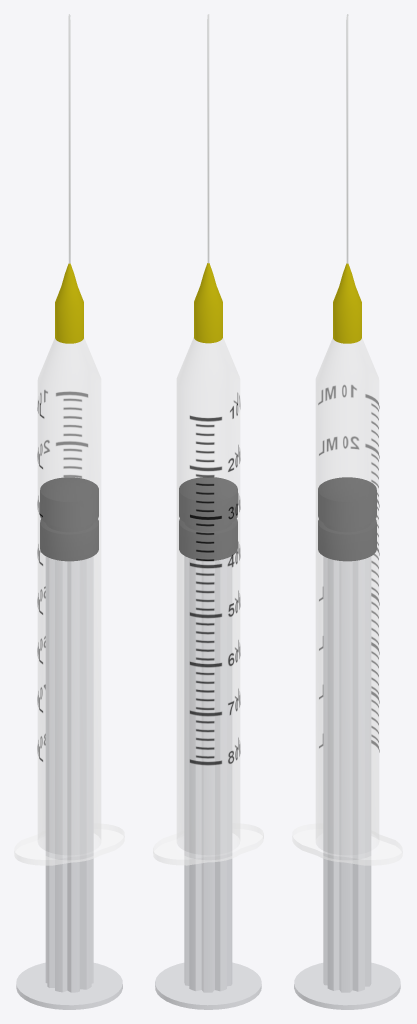
3 renders of one model, left to right at view 1: azimuth 30°, elevation 25°; view 2: azimuth 210°, elevation 25°; view 3: azimuth 330°, elevation 25°, orthographic.
Parts seen in each view (by area): view 1: barrel, plunger, plunger_rubber, adapter, needle; view 2: barrel, plunger, plunger_rubber, adapter, needle; view 3: barrel, plunger, plunger_rubber, adapter, needle.
Part boxes in pixels (box(x1,y1,x2,y2)): barrel: box(14, 338, 124, 865); plunger: box(16, 556, 122, 1009); plunger_rubber: box(40, 477, 98, 561); adapter: box(55, 263, 83, 343); needle: box(68, 14, 70, 263); barrel: box(153, 337, 263, 865); plunger: box(155, 556, 261, 1009); plunger_rubber: box(179, 477, 237, 560); adapter: box(194, 263, 222, 343); needle: box(207, 14, 209, 263); barrel: box(292, 338, 402, 865); plunger: box(294, 556, 400, 1009); plunger_rubber: box(318, 477, 376, 561); adapter: box(333, 263, 361, 343); needle: box(346, 14, 348, 263).
Size of the model in its own units: 33.34 by 296 by 29.4.
Materials: 5 (5 with a texture image).
